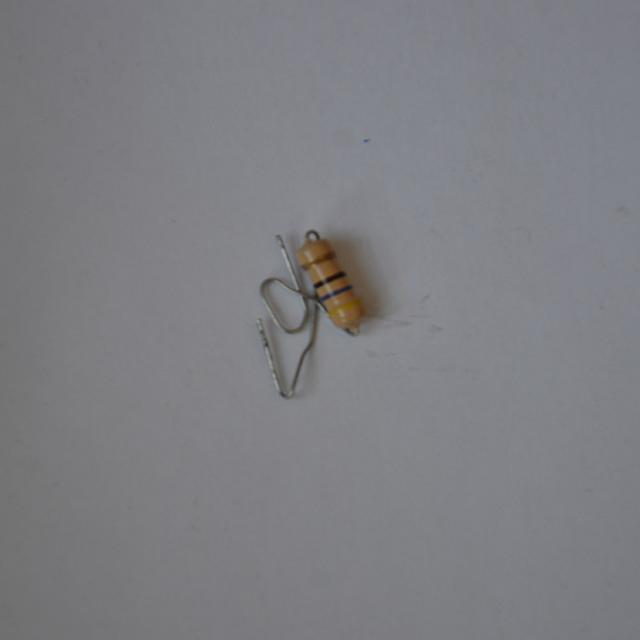brown: (314, 271, 345, 287)
gold: (303, 251, 335, 268)
resistor: (286, 219, 386, 346)
violet: (317, 283, 352, 300)
yellow: (327, 298, 359, 315)
